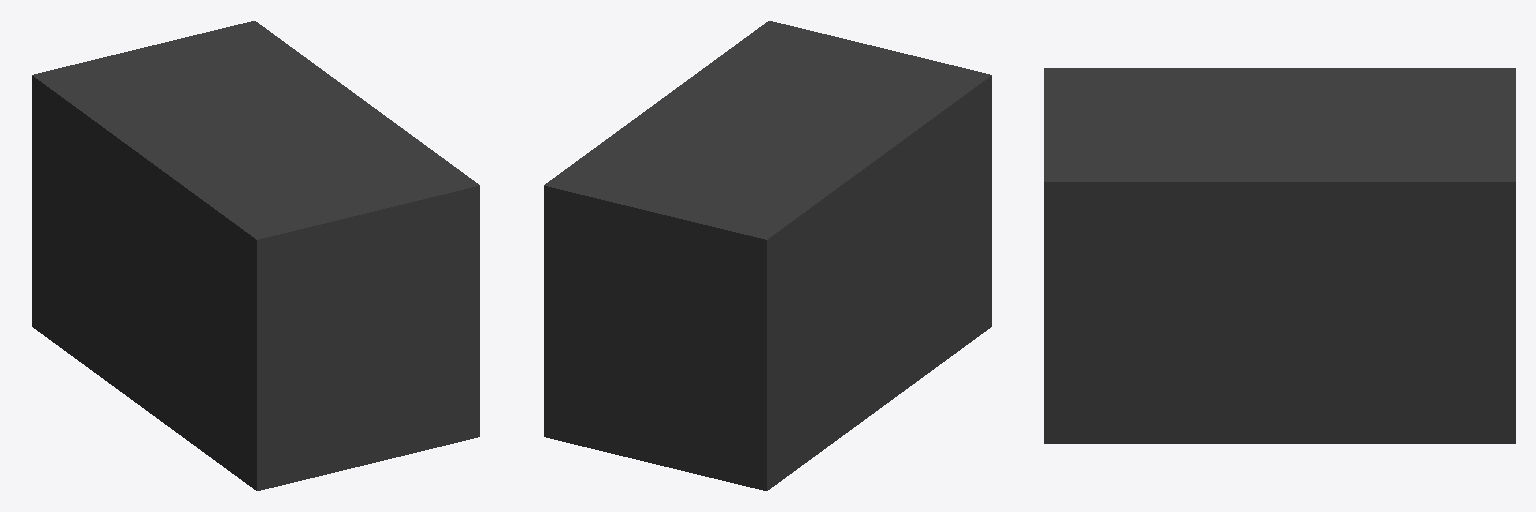
robot.urdf — box.urdf:
<?xml version="1.0" ?>
<robot name="box.urdf">
  <link name="baseLink">
    <contact>
      <lateral_friction value="1.0"/>
      <rolling_friction value="0.0001"/>
      <inertia_scaling value="3.0"/>
    </contact>
    <inertial>
      <origin rpy="0 0 0" xyz="0 0 0"/>
       <mass value="0.1"/>
       <inertia ixx="1" ixy="0" ixz="0" iyy="1" iyz="0" izz="1"/>
    </inertial>
    <visual>
      <origin rpy="0 0 0" xyz="0 0 0"/>
      <geometry>
        <!-- <box size="0.302 0.528 0.325"/> -->
        <mesh filename="box/box.obj" scale="0.302 0.528 0.325"/>
      </geometry>
      <material name="white">
        <color rgba="0.3 0.3 0.3 1"/>
      </material>
    </visual>
    <collision>
      <origin rpy="0 0 0" xyz="0 0 0"/>
      <geometry>
        <mesh filename="box/box.obj" scale="0.302 0.528 0.325"/>
	 	    <!-- <box size="0.302 0.528 0.325"/> -->
      </geometry>
    </collision>
  </link>
</robot>

--- What the picture shows (computed from the rendered views, not written in the file) ---
Views: 3 orthographic renders of the robot side by side, from view 1: azimuth 30°, elevation 25°; view 2: azimuth 150°, elevation 25°; view 3: azimuth 270°, elevation 25°.
Model box.urdf with 1 links and 0 joints (none), rooted at baseLink, posed all joints at 0.
Visible links, largest first — view 1: baseLink; view 2: baseLink; view 3: baseLink.
Link boxes in pixels (x1=…): baseLink: x1=32, y1=21, x2=479, y2=490; baseLink: x1=544, y1=21, x2=991, y2=490; baseLink: x1=1044, y1=68, x2=1515, y2=443.
Bounding box of the posed robot: 0.302 × 0.528 × 0.325 m (x, y, z).
1 mesh visuals loaded from 1 distinct referenced files (1 OBJ).
